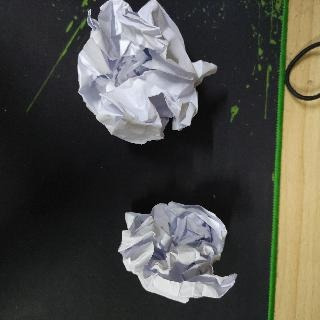8/可回收垃圾/纸: (117, 201, 238, 304)
